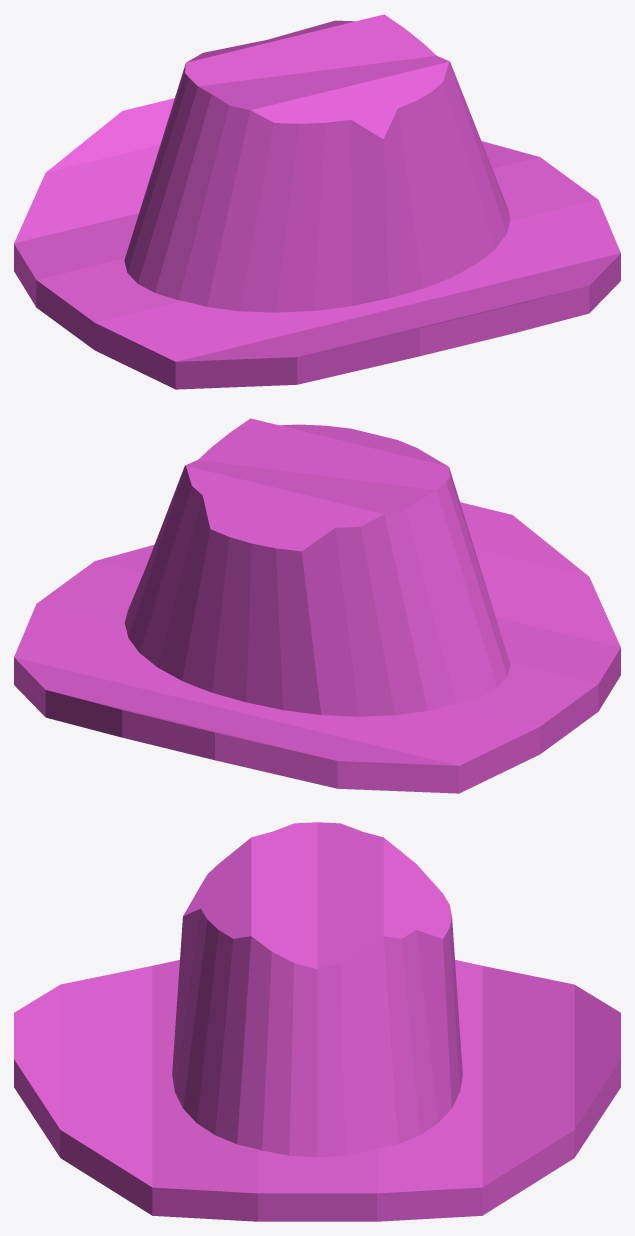
Rendered from hat.fbx.
3 renders of one model, top to bottom at view 1: azimuth 30°, elevation 25°; view 2: azimuth 150°, elevation 25°; view 3: azimuth 270°, elevation 25°, orthographic. The views are drawn at different scales.
Parts seen in each view (by area): view 1: Cube; view 2: Cube; view 3: Cube.
Boxes of the visible parts, bbox=[...] form: Cube: bbox=[14, 14, 620, 389]; Cube: bbox=[14, 418, 620, 793]; Cube: bbox=[14, 822, 620, 1221].
Bounding box in the file's own units: 200 × 83 × 205.
